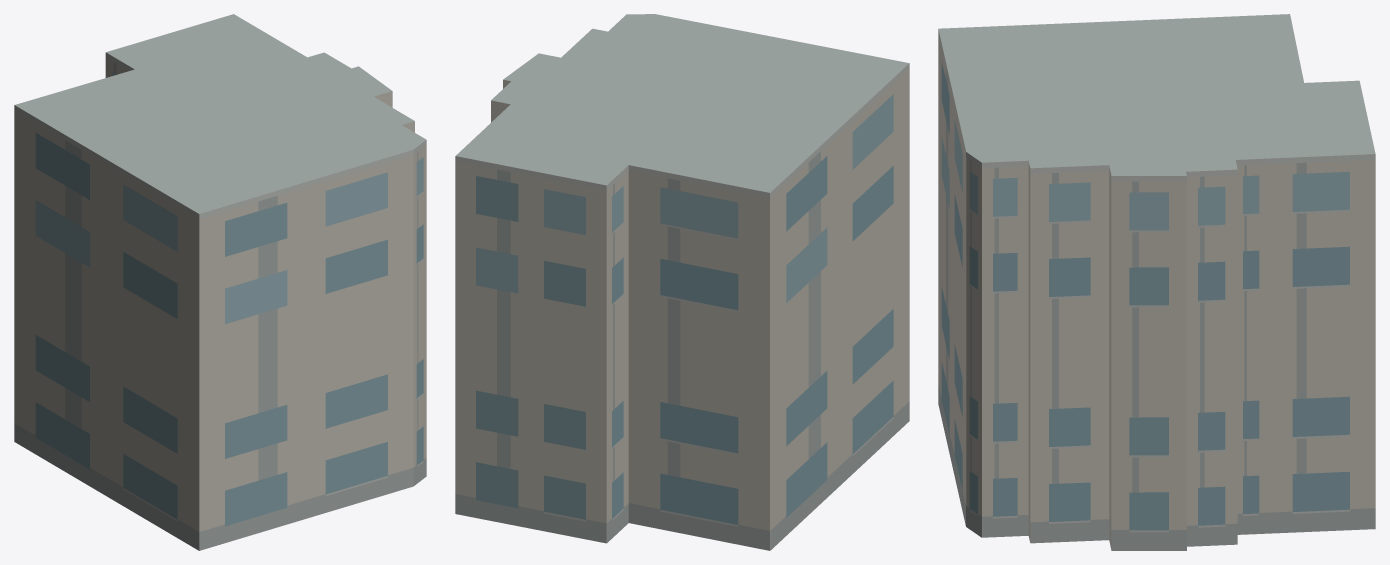
Rendered from survey-upis-32916120.glb.
3 views of the same model, side by side, from view 1: azimuth 30°, elevation 25°; view 2: azimuth 150°, elevation 25°; view 3: azimuth 270°, elevation 25° (orthographic). The views are drawn at different scales.
Parts seen in each view (by area): view 1: survey-upis-32916120.tmp; view 2: survey-upis-32916120.tmp; view 3: survey-upis-32916120.tmp.
Boxes of the visible parts, <box> form: survey-upis-32916120.tmp: <box>14,14,426,550</box>; survey-upis-32916120.tmp: <box>455,14,909,550</box>; survey-upis-32916120.tmp: <box>938,14,1375,550</box>.
Bounding box in the file's own units: 14.83 × 16 × 16.92.
